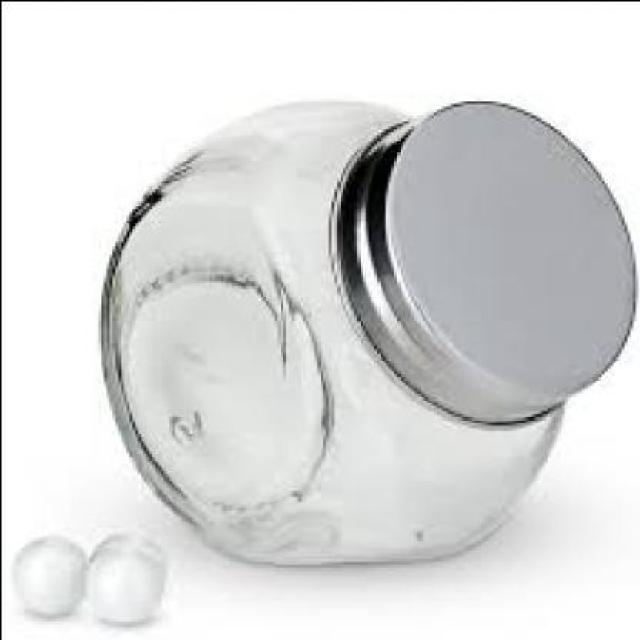GLASS: (96, 94, 561, 563)
METAL: (336, 96, 630, 424)
